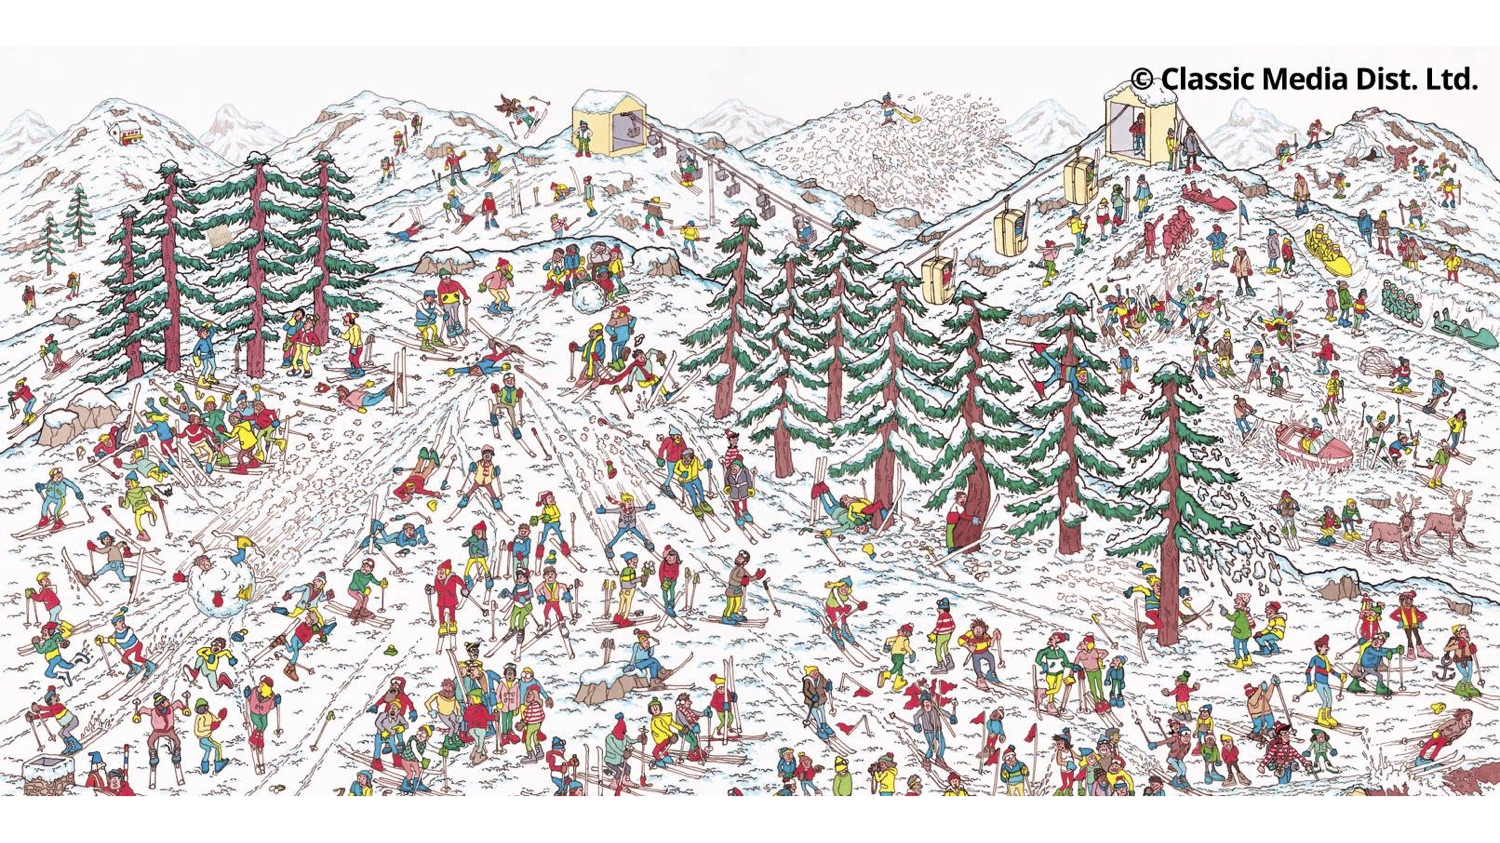Waldo: (1267, 721, 1298, 773)
